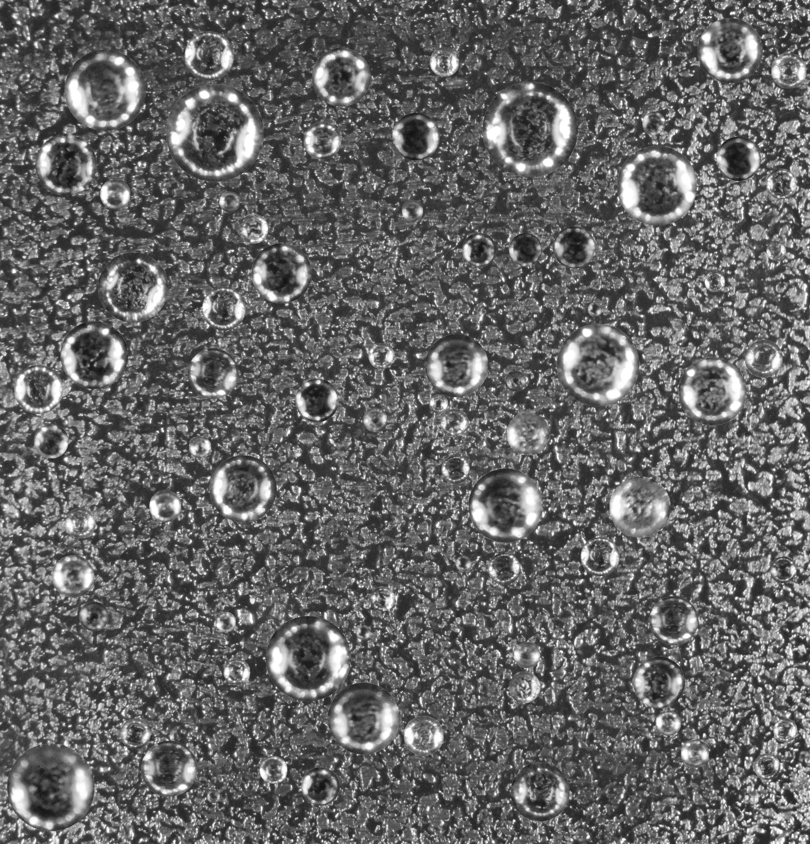Bubble: (166, 83, 263, 181), (482, 81, 577, 177), (7, 743, 94, 831), (265, 616, 350, 701), (557, 323, 639, 406), (64, 49, 145, 130), (617, 145, 696, 225), (468, 468, 542, 542), (327, 682, 399, 754), (98, 252, 168, 322), (678, 357, 746, 425), (209, 455, 276, 522), (60, 321, 127, 388), (697, 18, 762, 82), (425, 334, 488, 397), (35, 134, 96, 195), (609, 476, 670, 537), (251, 243, 311, 303), (510, 762, 569, 821), (312, 47, 370, 106), (141, 740, 197, 796), (633, 656, 684, 708), (187, 348, 238, 398), (649, 596, 698, 645), (184, 31, 233, 80), (14, 365, 62, 413), (392, 112, 439, 160), (716, 136, 760, 180), (202, 286, 245, 330), (295, 378, 338, 422), (506, 412, 549, 455), (51, 555, 94, 597), (553, 226, 595, 268), (403, 716, 443, 755), (580, 537, 619, 576), (301, 767, 339, 805), (303, 121, 341, 159), (745, 339, 782, 377), (771, 53, 806, 88), (462, 232, 496, 266), (34, 424, 68, 458), (509, 233, 542, 266), (488, 552, 520, 585), (508, 671, 540, 703), (149, 490, 181, 522), (120, 718, 150, 749), (766, 168, 796, 199), (65, 508, 95, 538), (238, 213, 268, 243), (100, 179, 130, 209), (429, 47, 459, 76), (79, 601, 108, 631), (440, 409, 468, 437), (441, 455, 469, 483), (681, 739, 709, 767), (259, 756, 287, 783), (223, 658, 250, 685), (770, 556, 796, 583), (514, 642, 540, 668), (754, 753, 780, 779), (368, 343, 394, 368), (655, 710, 681, 735), (363, 407, 387, 432), (370, 586, 394, 611), (773, 718, 797, 742), (642, 111, 665, 134), (189, 436, 211, 458), (401, 200, 423, 221), (704, 271, 725, 292), (505, 370, 525, 391), (219, 191, 239, 212), (215, 612, 235, 632), (766, 241, 786, 260), (429, 394, 448, 413), (455, 555, 471, 571), (587, 302, 602, 316), (356, 625, 370, 640), (206, 790, 219, 803), (149, 471, 161, 483), (608, 167, 617, 177)
